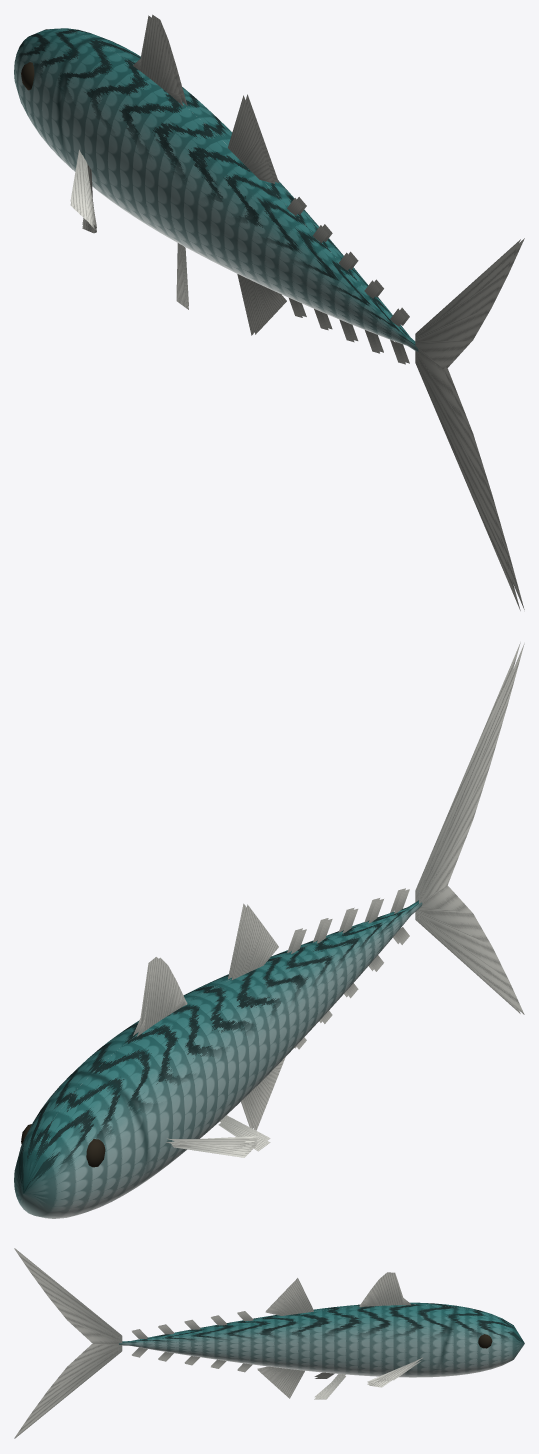
File: HO_Fish_Saba.fbx
3 views of the same model, one above another, from view 1: azimuth 30°, elevation 25°; view 2: azimuth 150°, elevation 25°; view 3: azimuth 270°, elevation 25° (orthographic). The views are drawn at different scales.
Parts seen in each view (by area): view 1: HO_Fish_Saba__Fish_Saba, HO_Fish_Saba__Fish_Fin; view 2: HO_Fish_Saba__Fish_Saba, HO_Fish_Saba__Fish_Fin; view 3: HO_Fish_Saba__Fish_Saba, HO_Fish_Saba__Fish_Fin.
Boxes of the visible parts, box(x1,y1,x2,y2) form: HO_Fish_Saba__Fish_Saba: box(14, 28, 418, 351); HO_Fish_Saba__Fish_Fin: box(70, 14, 524, 610); HO_Fish_Saba__Fish_Saba: box(14, 900, 422, 1218); HO_Fish_Saba__Fish_Fin: box(133, 642, 524, 1157); HO_Fish_Saba__Fish_Saba: box(119, 1302, 524, 1377); HO_Fish_Saba__Fish_Fin: box(14, 1248, 422, 1438).
Size of the model in its own units: 0.3308 by 0.728 by 1.76.
